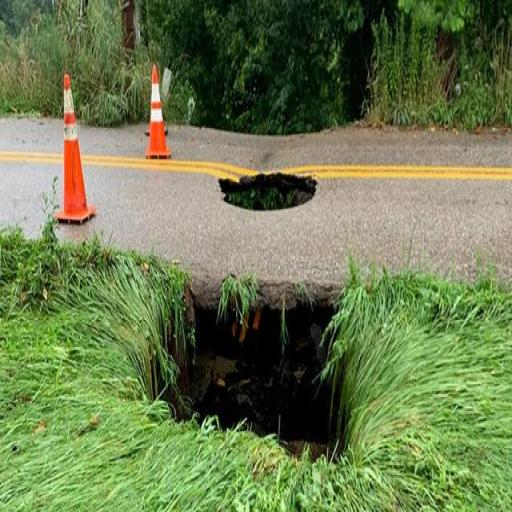Concentric_Crack: (145, 274, 368, 459), (219, 172, 317, 210)
